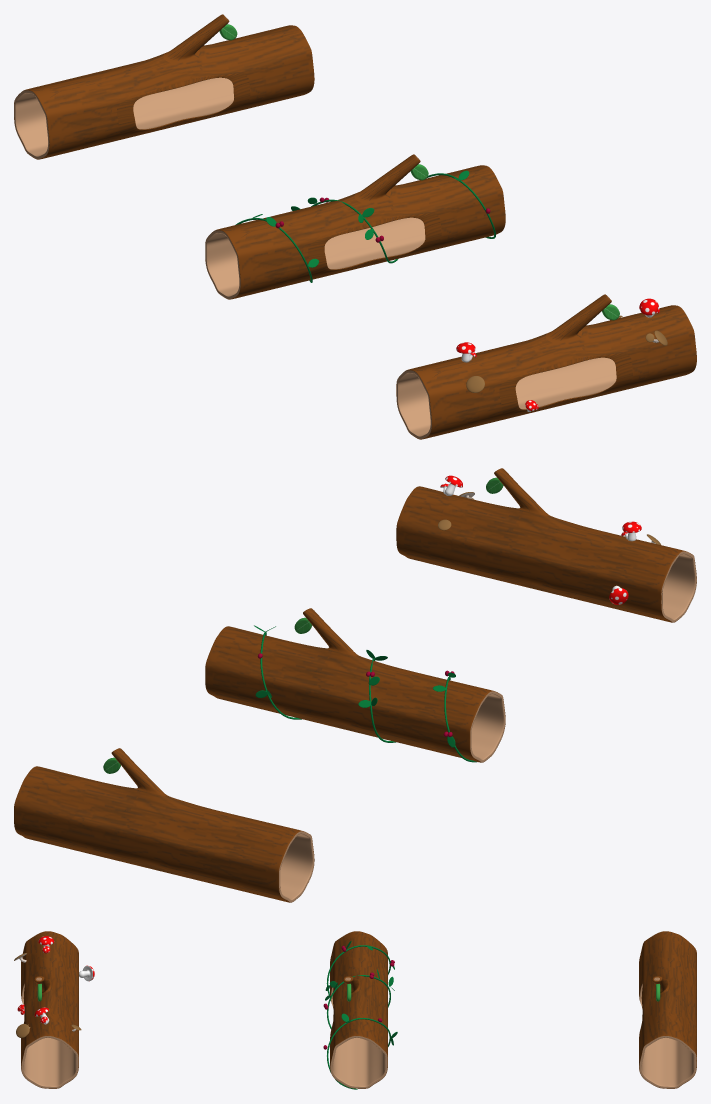
Rendered from maruta.fbx.
3 views of the same model, one above another, from view 1: azimuth 30°, elevation 25°; view 2: azimuth 150°, elevation 25°; view 3: azimuth 270°, elevation 25° (orthographic). The views are drawn at different scales.
Parts seen in each view (by area): view 1: pSphere19, polySurface3, polySurface25; view 2: pSphere19, polySurface3, polySurface25; view 3: polySurface3, pSphere19, polySurface25.
Boxes of the visible parts, x1=… form: pSphere19: x1=396, y1=294, x2=696, y2=439; polySurface3: x1=205, y1=154, x2=505, y2=299; polySurface25: x1=14, y1=14, x2=314, y2=159; pSphere19: x1=396, y1=468, x2=696, y2=622; polySurface3: x1=205, y1=608, x2=505, y2=762; polySurface25: x1=14, y1=748, x2=314, y2=902; polySurface3: x1=323, y1=931, x2=397, y2=1089; pSphere19: x1=14, y1=931, x2=94, y2=1088; polySurface25: x1=639, y1=931, x2=696, y2=1088.
Size of the model in its own units: 8 by 2.99 by 22.1.
8 materials, 3 textured.
